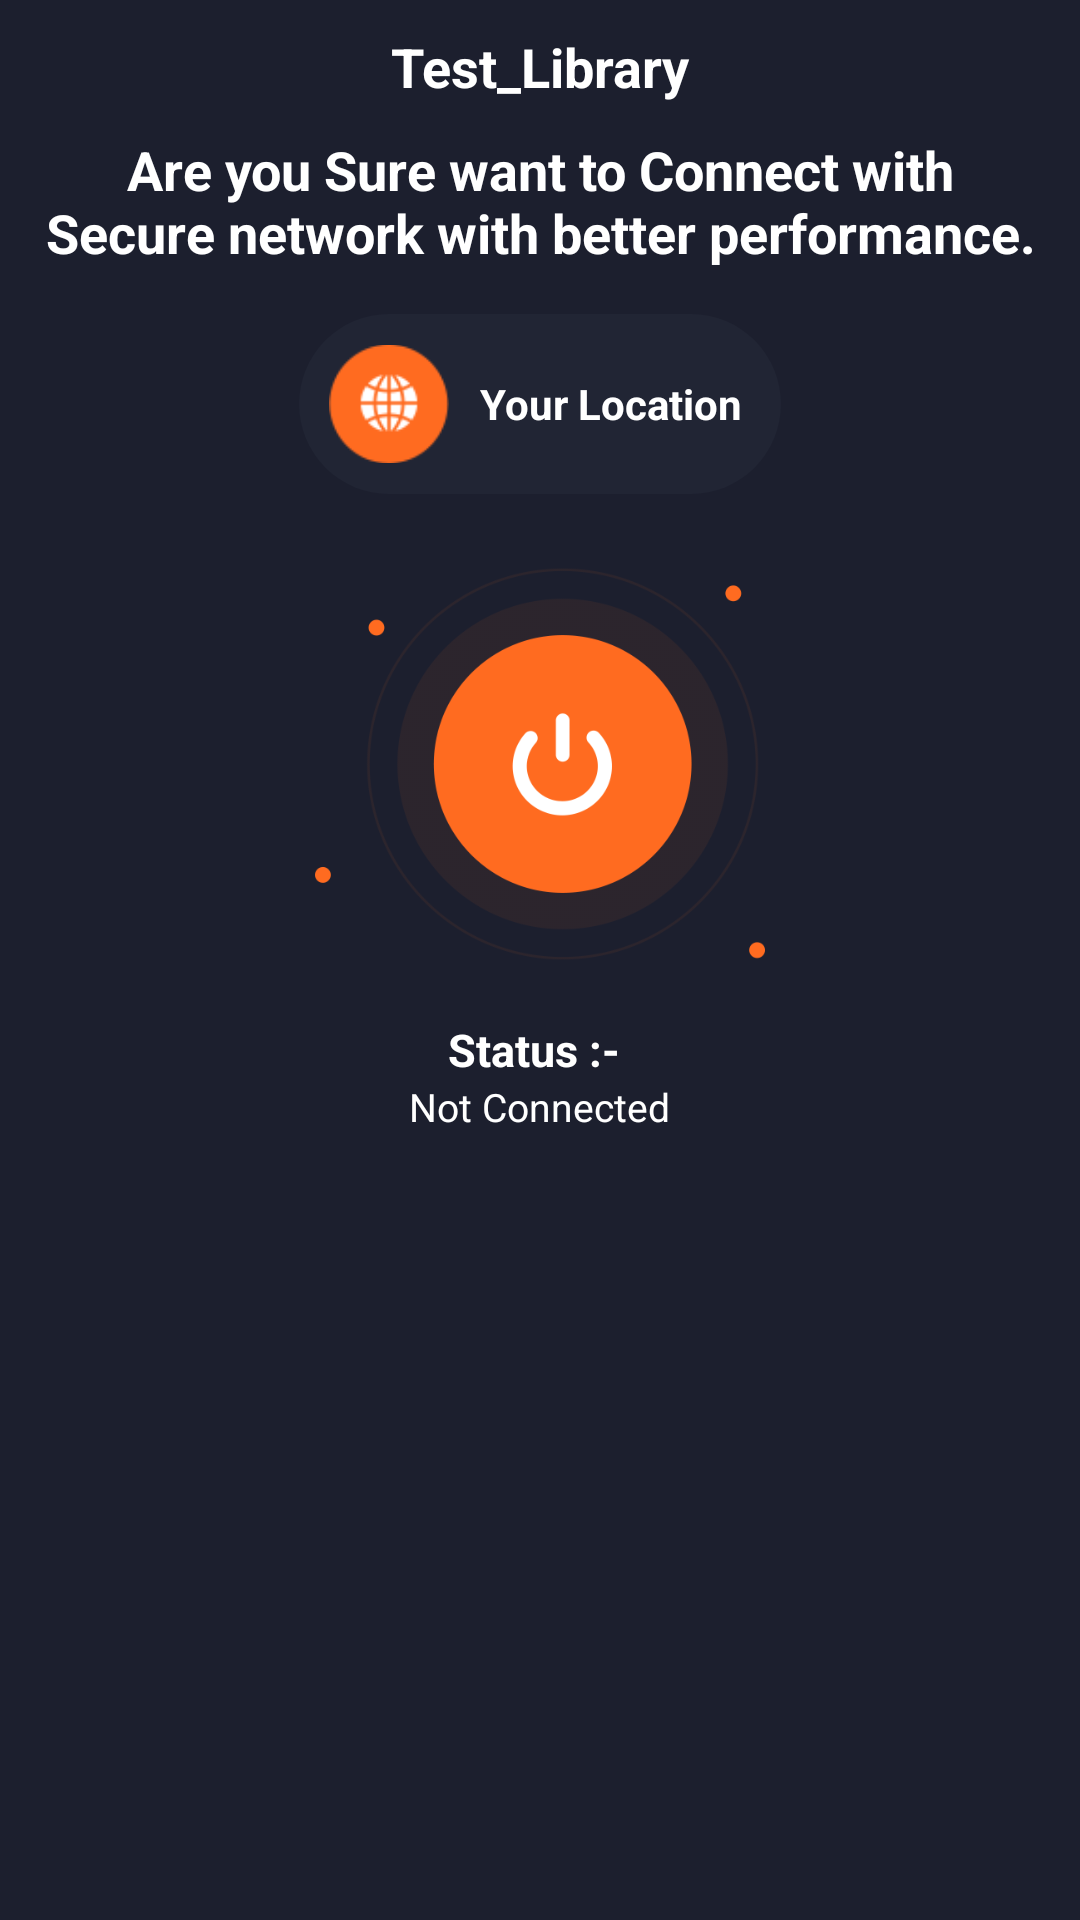

Where to tap for icons on this 1080 × 1920 app screen, as point (x, y):
server place: point (389, 404)
